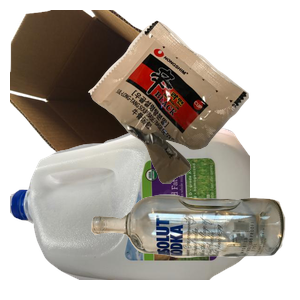cardboard: (10, 10, 218, 190)
glass: (88, 192, 300, 300)
plastic: (10, 120, 250, 300)
trash: (86, 18, 300, 194)
